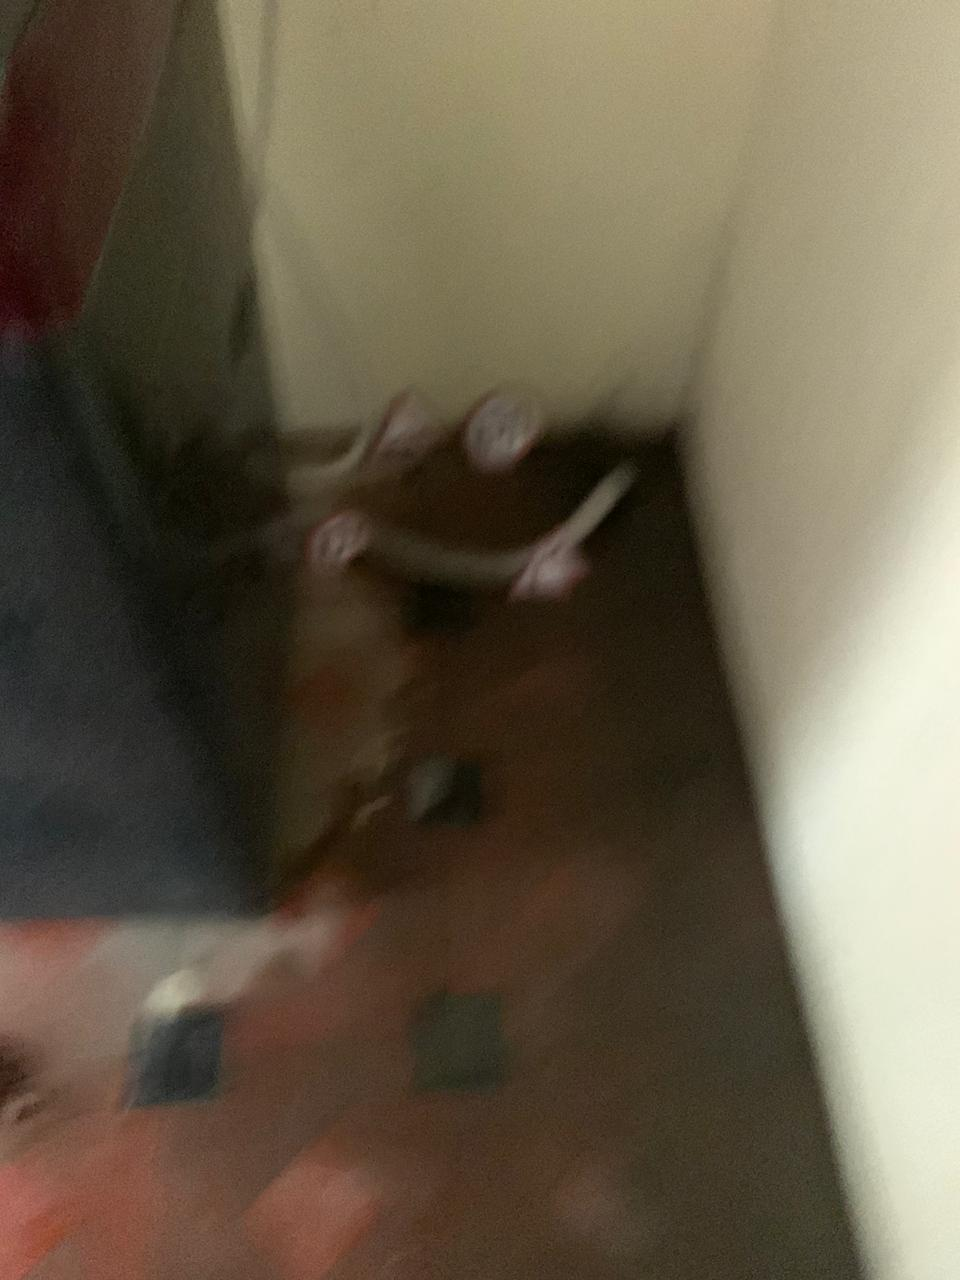SPEED LIMIT (60 KM/H): (261, 491, 382, 584)
